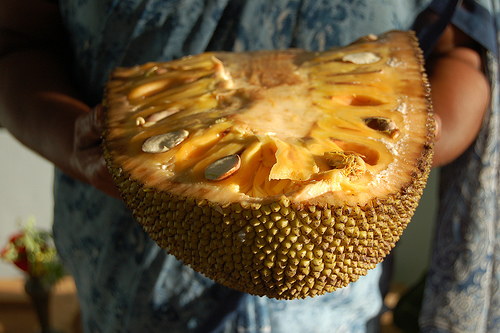jackfruit: (97, 28, 436, 302)
